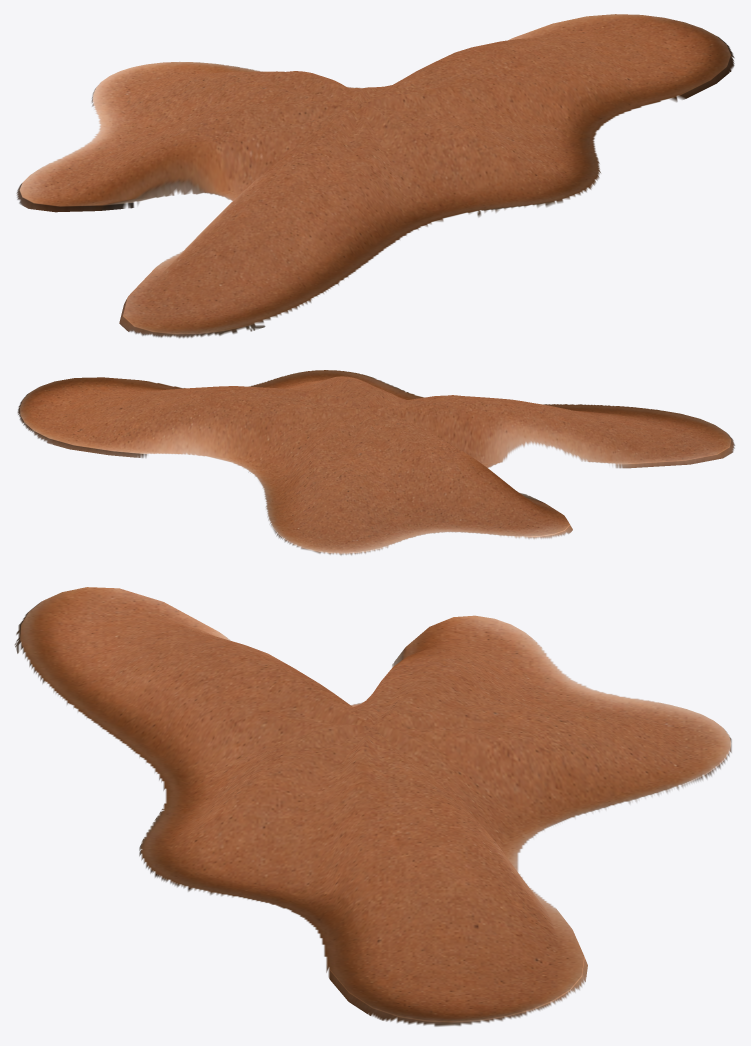
File: dirt_7.glb
3 renders of one model, top to bottom at view 1: azimuth 30°, elevation 25°; view 2: azimuth 150°, elevation 25°; view 3: azimuth 270°, elevation 25°, orthographic. The views are drawn at different scales.
Visible parts, largest first — view 1: dirt_7; view 2: dirt_7; view 3: dirt_7.
Boxes of the visible parts, x1,y1,x2,y2 form: dirt_7: [16, 14, 734, 338]; dirt_7: [17, 370, 735, 555]; dirt_7: [14, 587, 731, 1026].
Size of the model in its own units: 0.8618 by 0.0671 by 0.596.
Materials: 1 (1 with a texture image).
